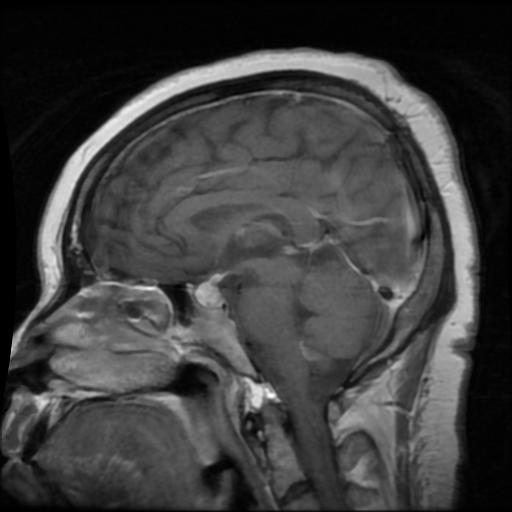Pituirity_tumour: (195, 280, 225, 307)
